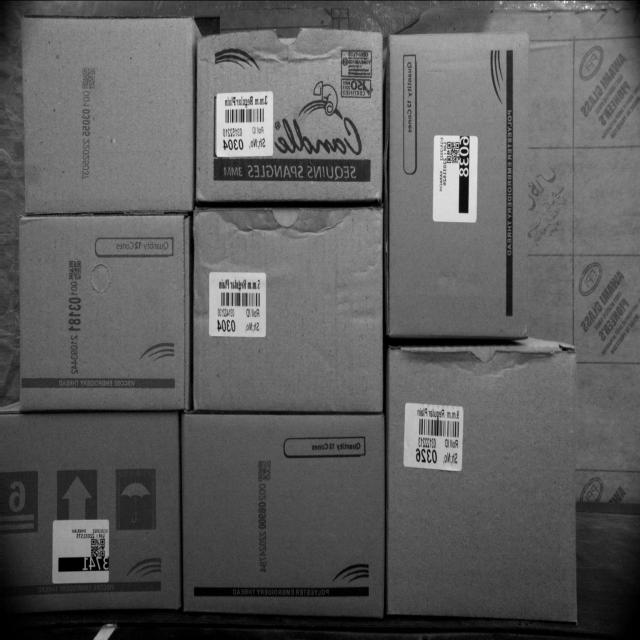cardboxes: (386, 347, 576, 623), (386, 35, 529, 344), (176, 412, 384, 622), (192, 204, 384, 410), (0, 409, 182, 612), (19, 15, 193, 214), (16, 214, 190, 412), (195, 34, 382, 202)
